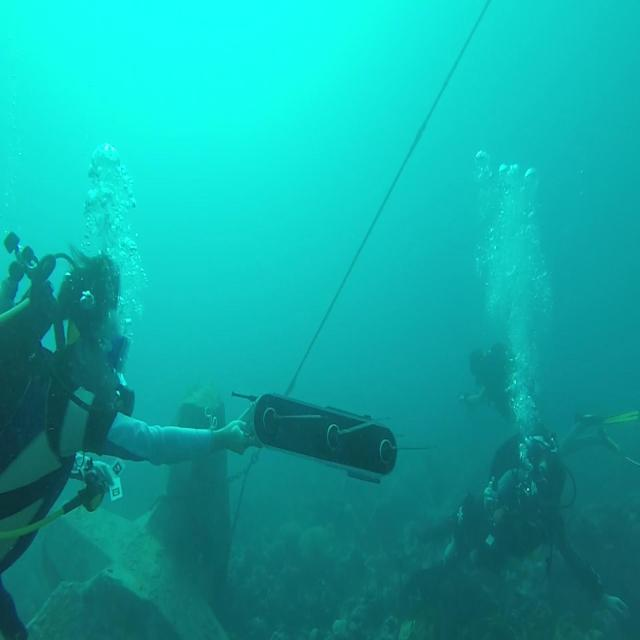human: (0, 237, 261, 638), (416, 438, 606, 620), (452, 326, 640, 463)
